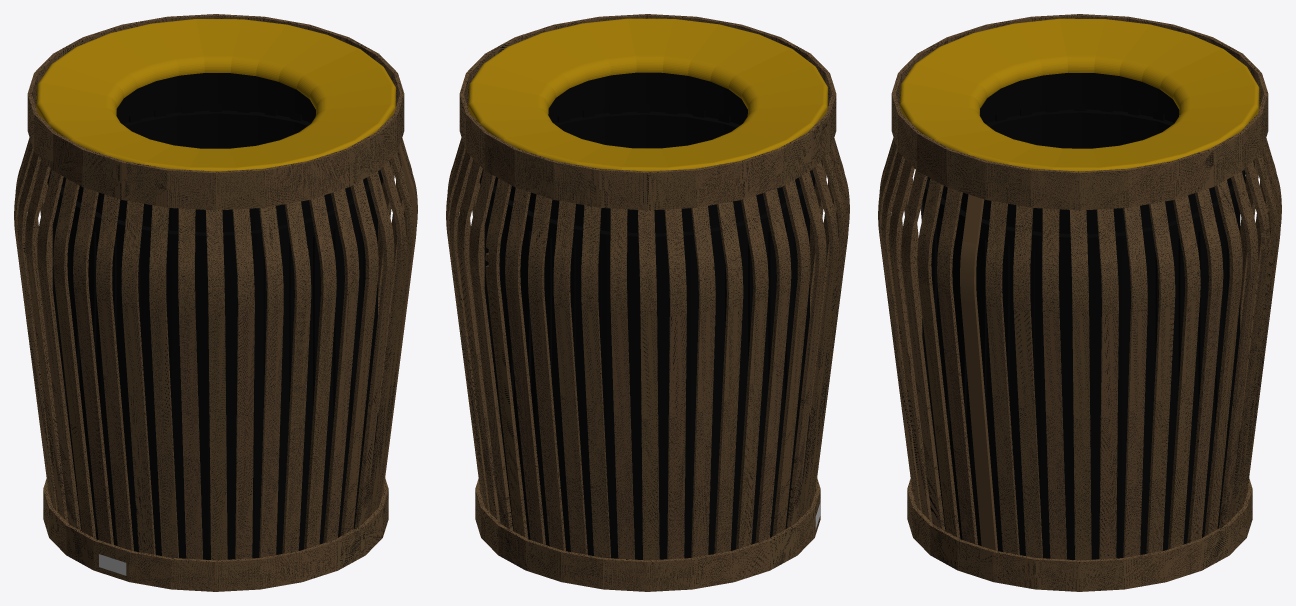
3 views of the same model, side by side, from view 1: azimuth 30°, elevation 25°; view 2: azimuth 150°, elevation 25°; view 3: azimuth 270°, elevation 25° (orthographic).
Visible parts, largest first — view 1: mesh73.001_mesh73-geometry, mesh94.001_mesh94-geometry, mesh102.001_mesh102-geometry, mesh105.001_mesh105-geometry, mesh130.001_mesh130-geometry, mesh139.001_mesh139-geometry, mesh116.001_mesh116-geometry, mesh138.001_mesh138-geometry, mesh129.001_mesh129-geometry, mesh140.001_mesh140-geometry, mesh121.001_mesh121-geometry, mesh117.001_mesh117-geometry (+25 smaller); view 2: mesh73.001_mesh73-geometry, mesh94.001_mesh94-geometry, mesh102.001_mesh102-geometry, mesh105.001_mesh105-geometry, mesh115.001_mesh115-geometry, mesh125.001_mesh125-geometry, mesh100.001_mesh100-geometry, mesh114.001_mesh114-geometry, mesh126.001_mesh126-geometry, mesh113.001_mesh113-geometry, mesh132.001_mesh132-geometry, mesh134.001_mesh134-geometry (+23 smaller); view 3: mesh73.001_mesh73-geometry, mesh94.001_mesh94-geometry, mesh102.001_mesh102-geometry, mesh105.001_mesh105-geometry, mesh143.001_mesh143-geometry, mesh106.001_mesh106-geometry, mesh133.001_mesh133-geometry, mesh111.001_mesh111-geometry, mesh131.001_mesh131-geometry, mesh144.001_mesh144-geometry, mesh103.001_mesh103-geometry, mesh135.001_mesh135-geometry (+23 smaller).
Boxes of the visible parts, x1,y1,x2,y2 form: mesh73.001_mesh73-geometry: (47,73,383,559); mesh94.001_mesh94-geometry: (36,19,395,171); mesh102.001_mesh102-geometry: (27,14,404,210); mesh105.001_mesh105-geometry: (43,478,388,591); mesh130.001_mesh130-geometry: (149,205,178,558); mesh139.001_mesh139-geometry: (232,208,254,559); mesh116.001_mesh116-geometry: (121,201,155,554); mesh138.001_mesh138-geometry: (259,206,283,557); mesh129.001_mesh129-geometry: (178,208,202,559); mesh140.001_mesh140-geometry: (205,210,227,560); mesh121.001_mesh121-geometry: (282,201,311,553); mesh117.001_mesh117-geometry: (96,194,133,550); mesh73.001_mesh73-geometry: (479,72,815,559); mesh94.001_mesh94-geometry: (468,18,827,171); mesh102.001_mesh102-geometry: (459,14,836,210); mesh105.001_mesh105-geometry: (475,478,820,591); mesh115.001_mesh115-geometry: (581,205,610,558); mesh125.001_mesh125-geometry: (664,208,686,559); mesh100.001_mesh100-geometry: (553,201,587,554); mesh114.001_mesh114-geometry: (610,208,634,559); mesh126.001_mesh126-geometry: (691,206,715,557); mesh113.001_mesh113-geometry: (637,210,659,560); mesh132.001_mesh132-geometry: (714,201,743,553); mesh134.001_mesh134-geometry: (528,194,565,550); mesh73.001_mesh73-geometry: (922,73,1245,559); mesh94.001_mesh94-geometry: (899,18,1259,171); mesh102.001_mesh102-geometry: (891,14,1268,210); mesh105.001_mesh105-geometry: (907,478,1252,591); mesh143.001_mesh143-geometry: (1013,205,1042,558); mesh106.001_mesh106-geometry: (1096,208,1118,559); mesh133.001_mesh133-geometry: (985,201,1019,554); mesh111.001_mesh111-geometry: (1042,208,1066,559); mesh131.001_mesh131-geometry: (1123,206,1147,557); mesh144.001_mesh144-geometry: (1069,210,1091,560); mesh103.001_mesh103-geometry: (1146,201,1175,553); mesh135.001_mesh135-geometry: (960,194,997,550).
Bounding box in the file's own units: 0.5442 × 0.6386 × 0.5442.
